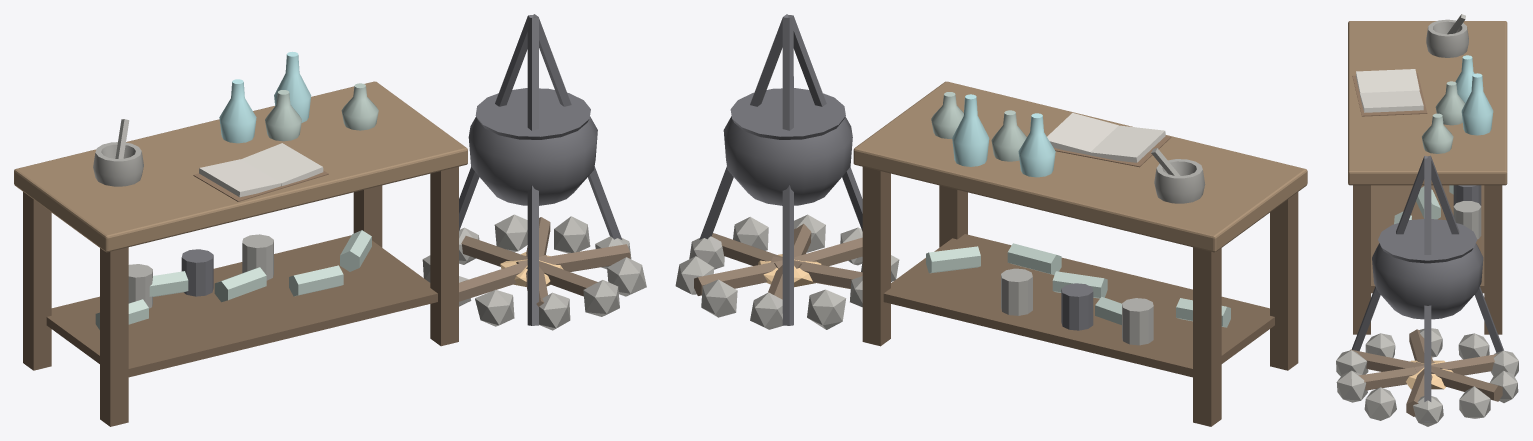
The model's file is alchemy_table.glb.
3 views of the same model, side by side, from view 1: azimuth 30°, elevation 25°; view 2: azimuth 150°, elevation 25°; view 3: azimuth 270°, elevation 25° (orthographic). The views are drawn at different scales.
Visible parts, largest first — view 1: alchemy_table; view 2: alchemy_table; view 3: alchemy_table.
Boxes of the visible parts, x1=… form: alchemy_table: x1=14, y1=14, x2=646, y2=426; alchemy_table: x1=675, y1=14, x2=1307, y2=426; alchemy_table: x1=1336, y1=14, x2=1518, y2=426.
Size of the model in its own units: 2.83 by 1.32 by 0.9184.
